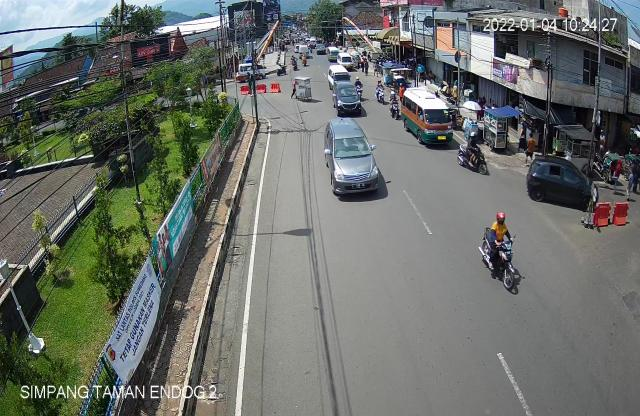Mobil: (321, 114, 386, 209), (524, 152, 598, 212), (402, 86, 456, 148), (331, 80, 364, 117)
Motor: (476, 209, 527, 294), (456, 130, 491, 178), (387, 91, 402, 121)
